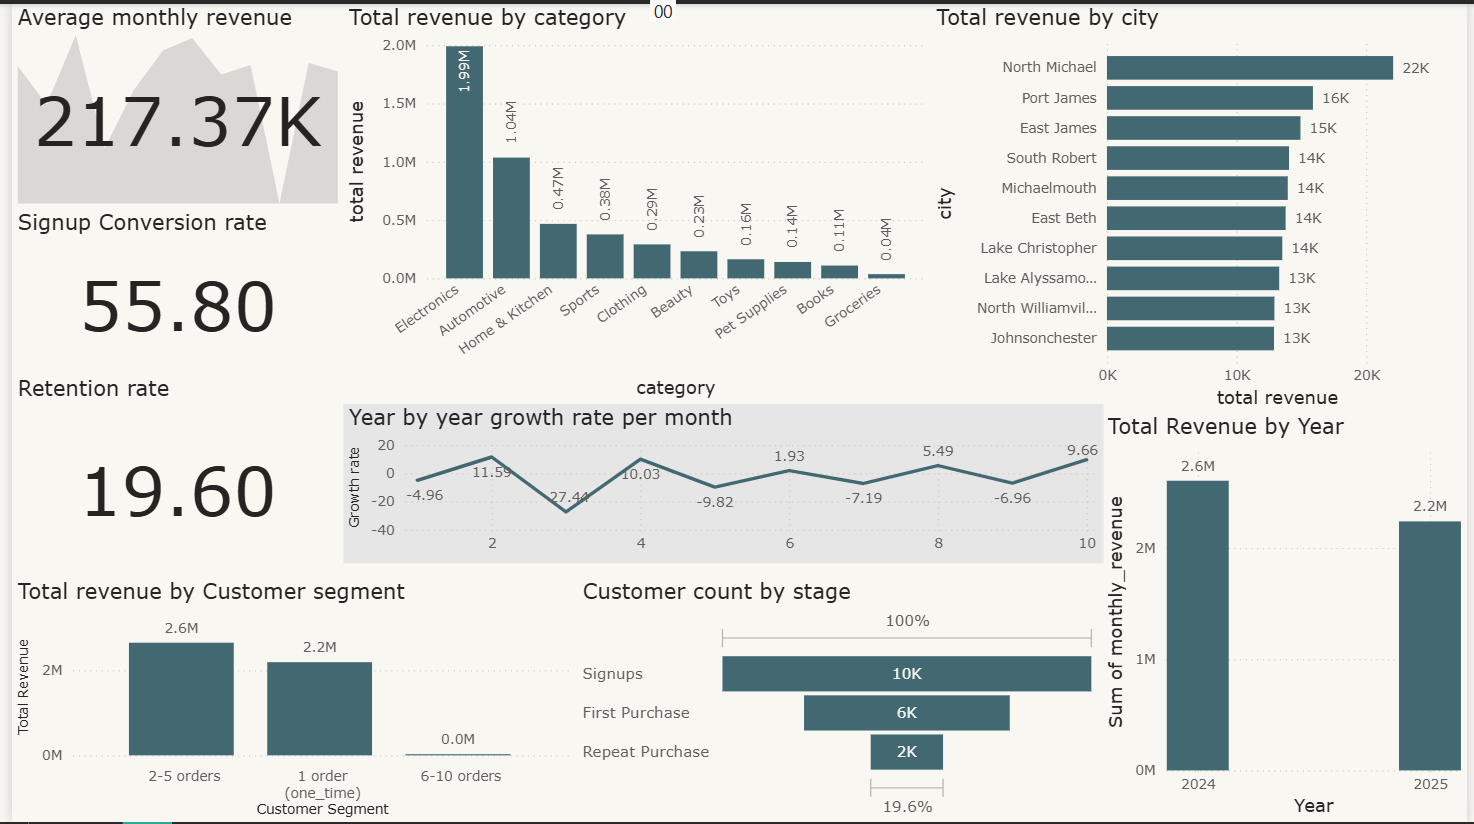

The page's visual inventory and layout, read from the dashboard file:
{"tool":"powerbi","page":{"name":"Page 1","canvas":[1280,720],"ordinal":0},"visuals":[{"type":"clusteredColumnChart","title":"Total Revenue by Year","fields":{"Y":["Sum(Query1.monthly_revenue)"],"Category":["Query1.Year"]},"box":[959.3,360,320.9,360],"z":0},{"type":"kpi","title":"Average  monthly revenue ","fields":{"TrendLine":["Query1.month_name"],"Indicator":["Avg(Query1.monthly_revenue)"]},"box":[0,0,291.9,180.7],"z":1000},{"type":"columnChart","title":" Total revenue by category","fields":{"Category":["Category revenue.category"],"Y":["Sum(Category revenue.total_revenue)"]},"box":[291.3,0,516.4,351.7],"z":3000},{"type":"clusteredBarChart","title":"Total revenue by city","fields":{"Category":["City revenue.city"],"Y":["Sum(City revenue.total_revenue)"]},"box":[807.7,0,472.5,360],"z":3500},{"type":"funnel","title":"Customer count by stage","fields":{"Category":["Query4.stage"],"Y":["Sum(Query4.count)"]},"box":[497.4,504.8,462.6,215.8],"z":4000},{"type":"columnChart","title":"Total revenue by Customer segment","fields":{"Category":["Customer segments.customer_segment"],"Y":["Sum(Customer segments.total_revenue)"]},"box":[0,504.8,497.4,215.8],"z":5000},{"type":"lineChart","title":"Year by year growth rate per month","fields":{"Category":["Query2.month"],"Y":["Sum(Query2.yoy_growth_pct)"]},"box":[291.3,351.7,669.1,139.7],"z":6000},{"type":"kpi","title":"Signup Conversion rate","fields":{"TrendLine":["Query4.stage"],"Indicator":["Sum(Query4.percentage)"]},"box":[0,180.7,291.9,145.2],"z":7000},{"type":"kpi","title":"Retention rate","fields":{"TrendLine":["Query4.stage"],"Indicator":["Sum(Query4.percentage)"]},"box":[0,326.2,291.5,178.6],"z":8000}]}

Visuals, with their boxes in screenshot pixels (x1, y1, x2, y2), scaled from the page's 1280x720 canvas onto the 1474x824 screenshot:
"Total Revenue by Year" clusteredColumnChart: box(1105, 412, 1473, 823)
"Average  monthly revenue " kpi: box(0, 0, 336, 207)
" Total revenue by category" columnChart: box(335, 0, 930, 403)
"Total revenue by city" clusteredBarChart: box(930, 0, 1473, 412)
"Customer count by stage" funnel: box(573, 578, 1106, 823)
"Total revenue by Customer segment" columnChart: box(0, 578, 573, 823)
"Year by year growth rate per month" lineChart: box(335, 403, 1106, 562)
"Signup Conversion rate" kpi: box(0, 207, 336, 373)
"Retention rate" kpi: box(0, 373, 336, 578)
